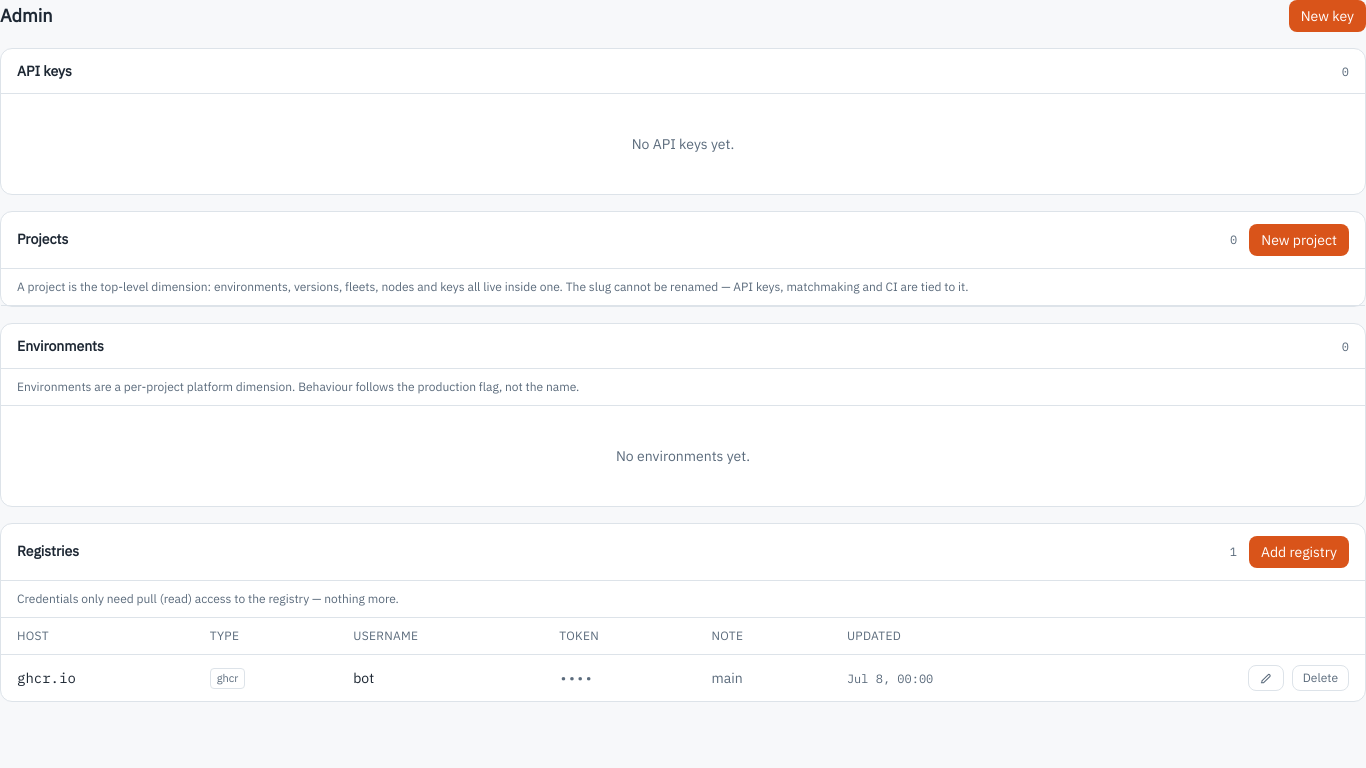
Test: Реестры — редактирование (PATCH) › карандаш открывает форму предзаполненной: host read-only + type/username/note из строки
Expected: the text "ghcr.io" is shown, [17,669,76,687]
Step 1. Click the button named "Edit" → coordinates (1266, 678), box [1248,665,1284,691]
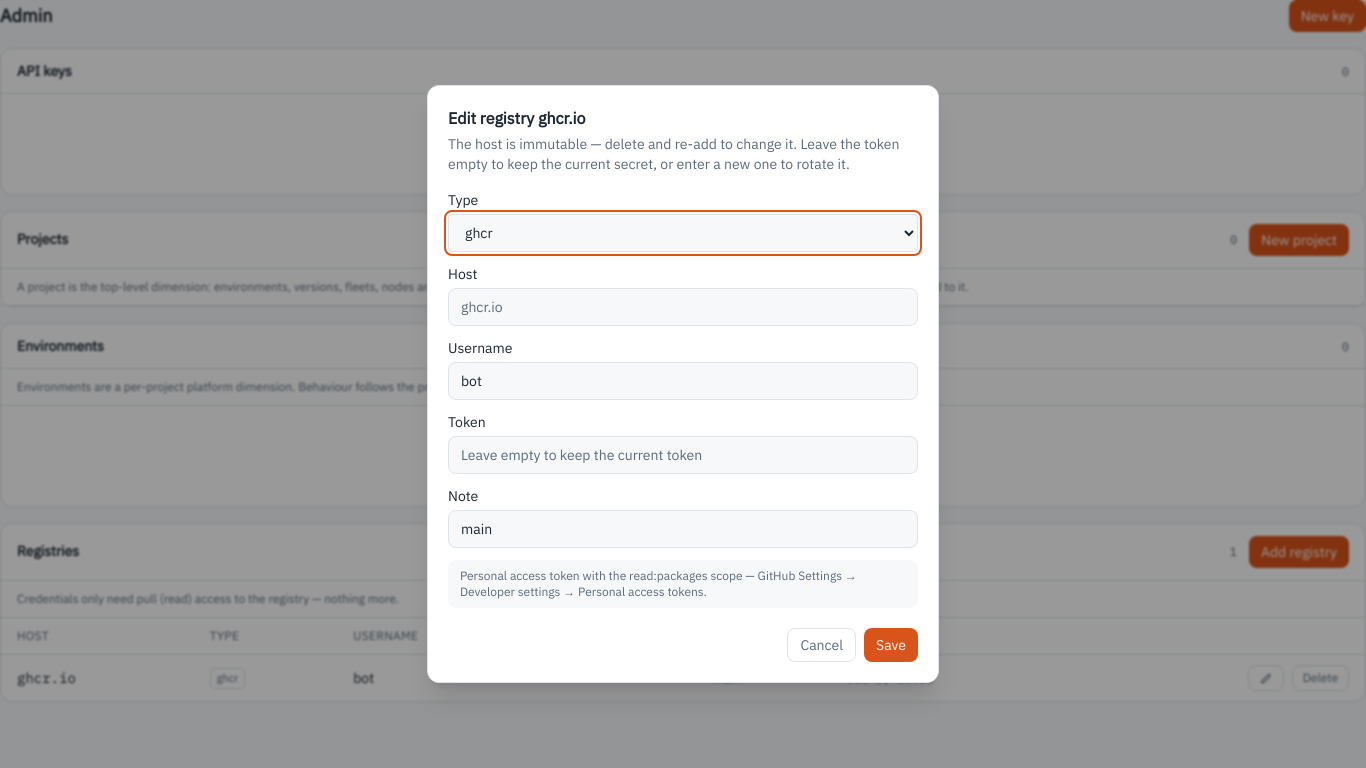
Result: the field labelled "Host" holds "ghcr.io" at [448,288,918,326]
Result: the dropdown shows "ghcr" at [448,214,918,252]
Result: the field labelled "Username" holds "bot" at [448,362,918,400]
